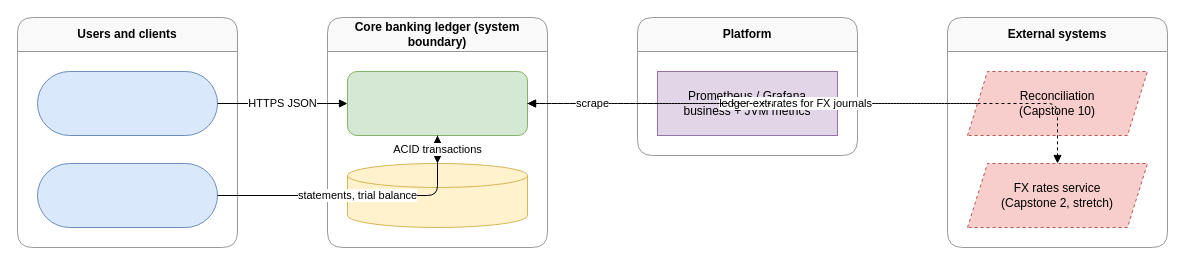
This 1185x265 diagram has some shape labels left out. Here are the shapes that lost their labels. From the top down, the centre of each, then its label:
the point at 127,103: Customers (via mobile / web)
the point at 437,103: Ledger REST API /accounts · /transfers · /ledger
the point at 127,195: Operations / finance
the point at 437,195: Ledger database PostgreSQL
